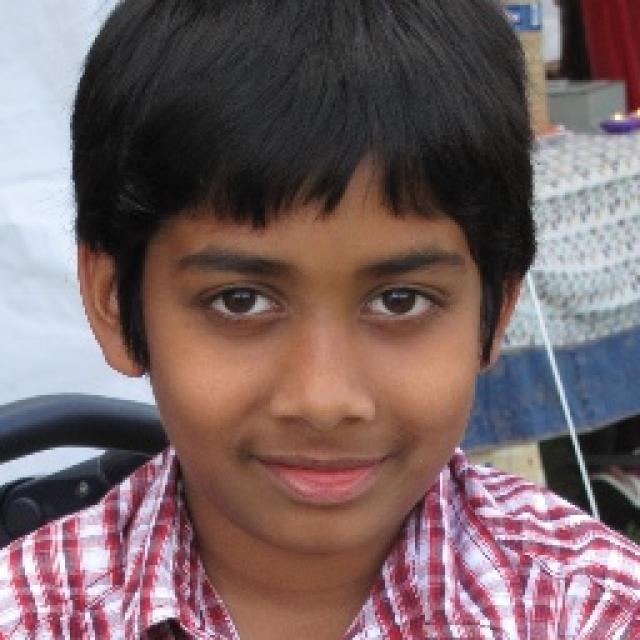earlobe: (75, 225, 148, 377), (477, 249, 523, 374)
